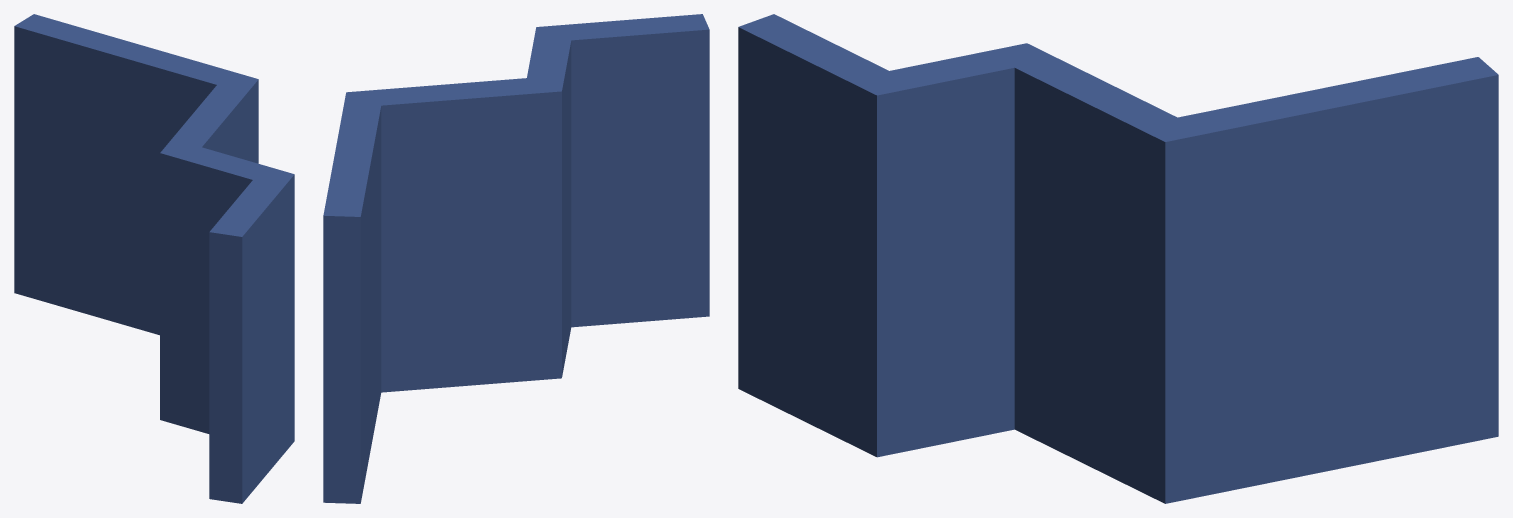
File: build11.fbx
The picture shows the model from 3 angles, left to right: view 1: azimuth 30°, elevation 25°; view 2: azimuth 150°, elevation 25°; view 3: azimuth 270°, elevation 25°; orthographic projection. The views are drawn at different scales.
Visible parts, largest first — view 1: Group1; view 2: Group1; view 3: Group1.
Part boxes in pixels (x1,y1,x2,y2): Group1: (14,14,294,503); Group1: (323,14,709,503); Group1: (738,14,1498,503).
Bounding box in the file's own units: 9418 × 12399 × 23620.
